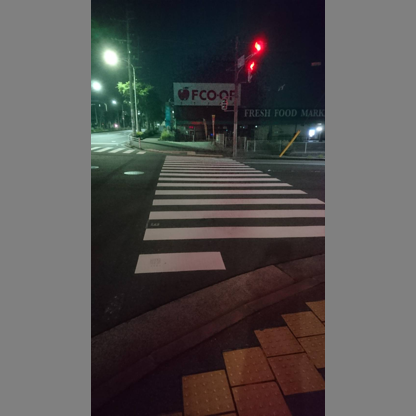brailleblock: (177, 295, 324, 413)
crosswalk: (131, 158, 323, 278)
